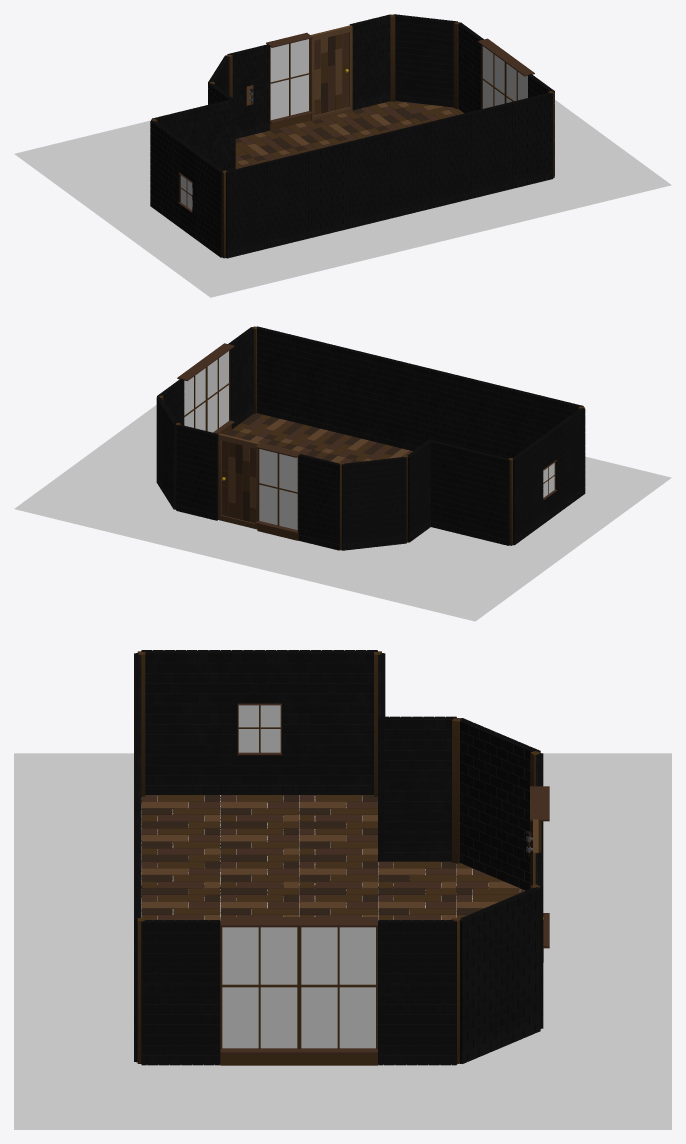
3 views of the same model, one above another, from view 1: azimuth 30°, elevation 25°; view 2: azimuth 150°, elevation 25°; view 3: azimuth 270°, elevation 25° (orthographic). The views are drawn at different scales.
Visible parts, largest first — view 1: Plane001; view 2: Plane001; view 3: Plane001.
Boxes of the visible parts, left/top/right/bottom form: Plane001: left=14, top=14, right=671, bottom=297; Plane001: left=14, top=326, right=671, bottom=621; Plane001: left=14, top=650, right=671, bottom=1129.
Size of the model in its own units: 1130 by 200 by 834.
